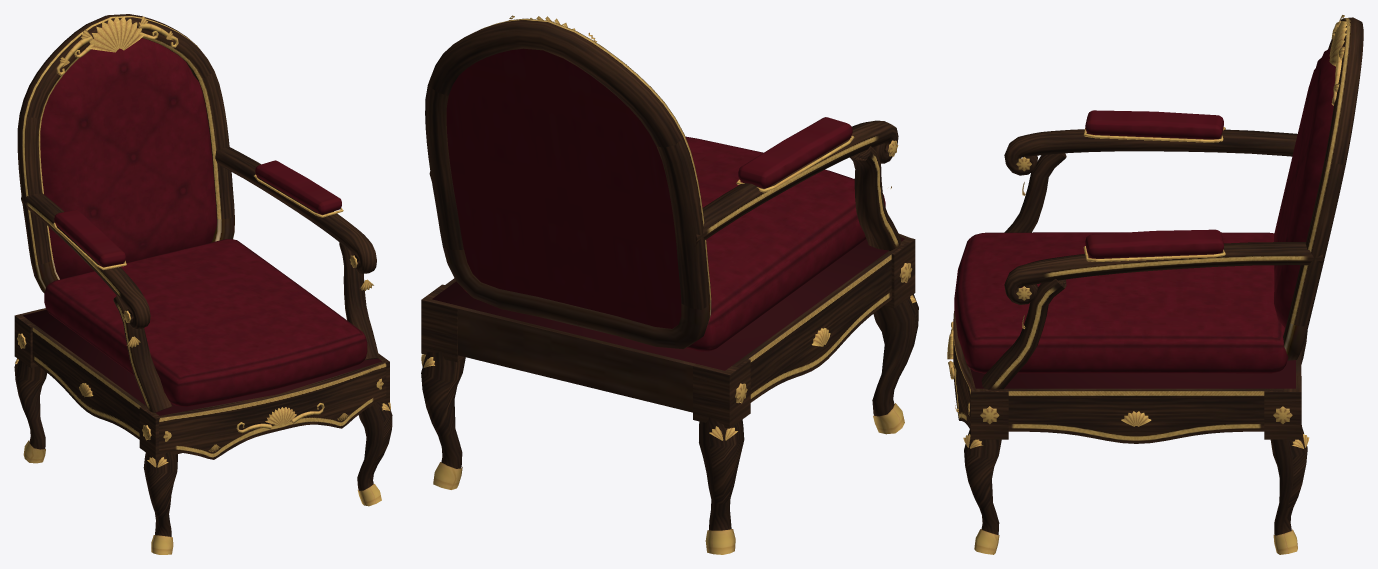
Rendered from antique_armchair.glb.
3 renders of one model, left to right at view 1: azimuth 30°, elevation 25°; view 2: azimuth 150°, elevation 25°; view 3: azimuth 270°, elevation 25°, orthographic. The views are drawn at different scales.
Visible parts, largest first — view 1: Armchair_Velvet, Armchair_Walnut, Armchair_Gilding; view 2: Armchair_Velvet, Armchair_Walnut, Armchair_Gilding; view 3: Armchair_Velvet, Armchair_Walnut, Armchair_Gilding.
Boxes of the visible parts, <box> form: Armchair_Velvet: <box>23,38,381,415</box>; Armchair_Walnut: <box>14,14,392,536</box>; Armchair_Gilding: <box>15,16,390,554</box>; Armchair_Velvet: <box>432,48,904,370</box>; Armchair_Walnut: <box>421,18,918,530</box>; Armchair_Gilding: <box>421,15,916,554</box>; Armchair_Velvet: <box>954,48,1335,388</box>; Armchair_Walnut: <box>953,17,1363,535</box>; Armchair_Gilding: <box>947,15,1346,554</box>.
Bounding box in the file's own units: 0.7336 × 1.13 × 0.9091.
Materials: 3 (3 with a texture image).
